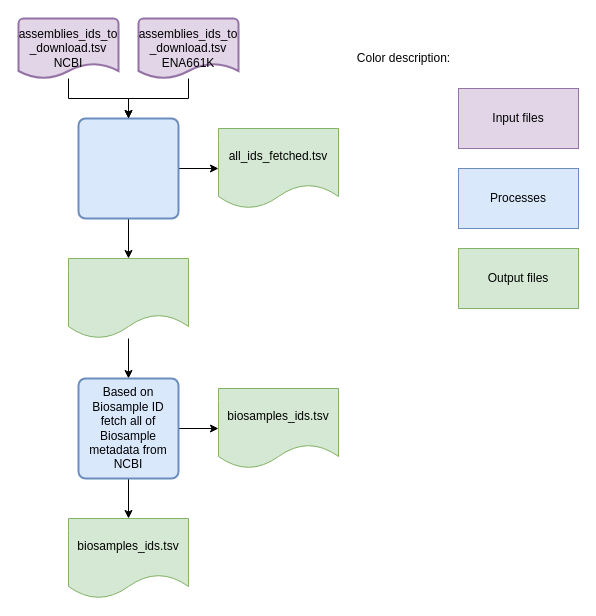
Image size: 596x616. Some labels were removed from this diagram. Each missing label, with the centre of its shape:
Fetch RefSeq, Genbank and SRA IDs linked to the assembly ID: the point at 128,168
id_matches.tsv: the point at 128,298
